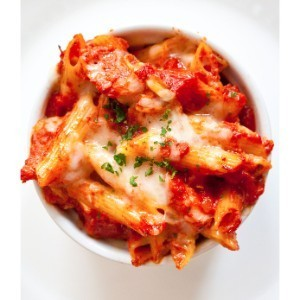cheese_brain food: (88, 112, 232, 228)
